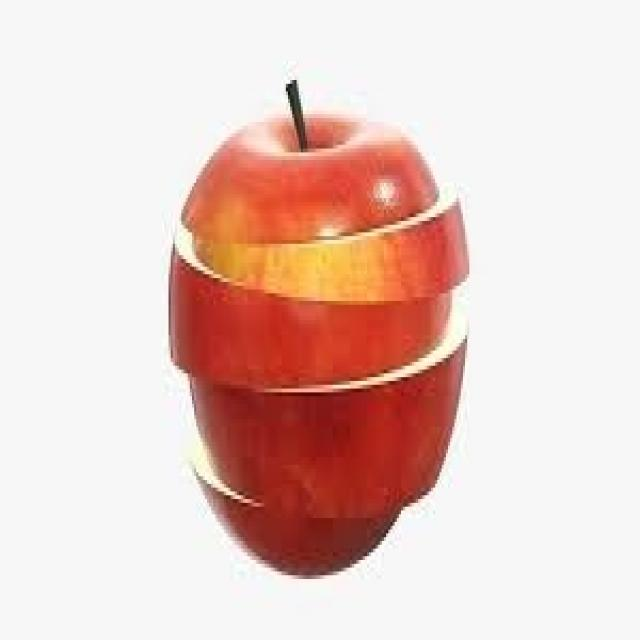Apple: (183, 308, 512, 492), (139, 248, 482, 400), (158, 80, 439, 251), (179, 183, 499, 308), (182, 465, 452, 564)
